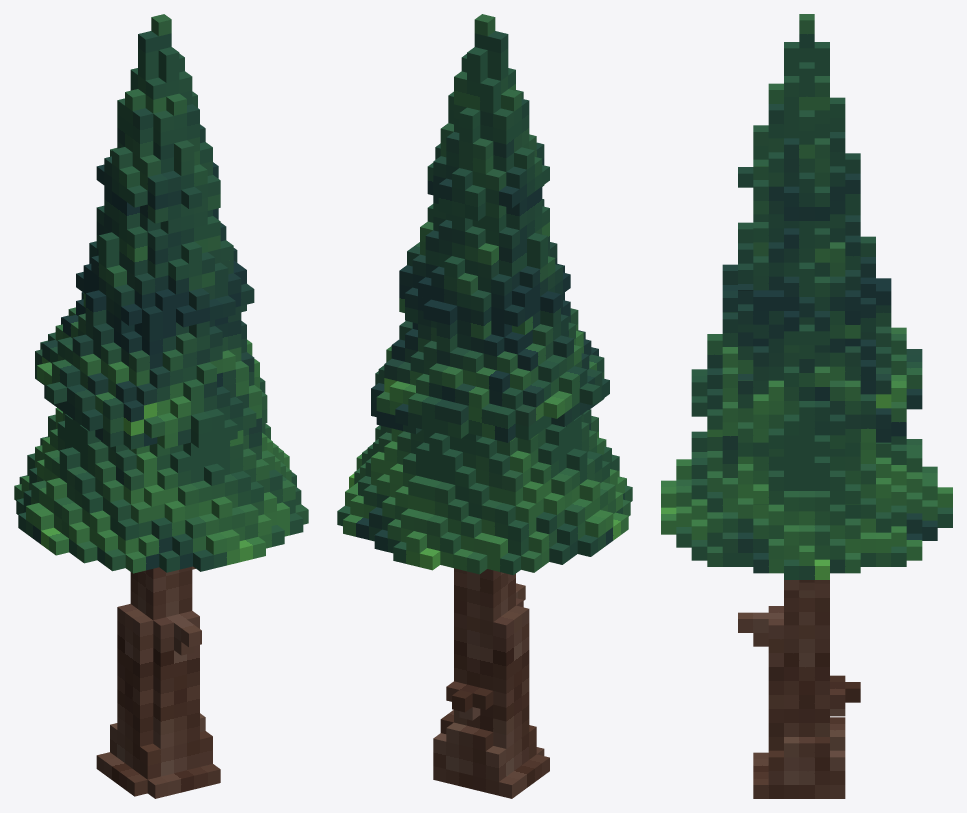
File: Conifer4.obj
3 renders of one model, left to right at view 1: azimuth 30°, elevation 25°; view 2: azimuth 150°, elevation 25°; view 3: azimuth 270°, elevation 25°, orthographic.
Parts seen in each view (by area): view 1: Conifer4; view 2: Conifer4; view 3: Conifer4.
Part boxes in pixels (bbox=[...]): Conifer4: bbox=[14, 14, 308, 798]; Conifer4: bbox=[337, 14, 632, 798]; Conifer4: bbox=[661, 14, 952, 798].
Size of the model in its own units: 1.9 by 5.5 by 1.9.
Materials: 1 (1 with a texture image).
